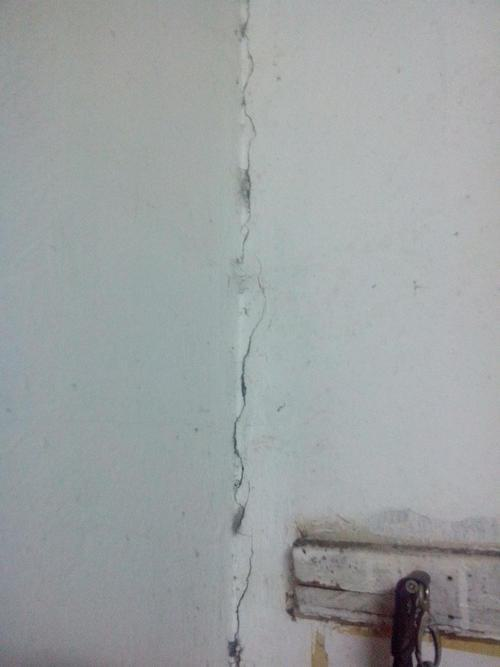Crack: (227, 1, 267, 667)
